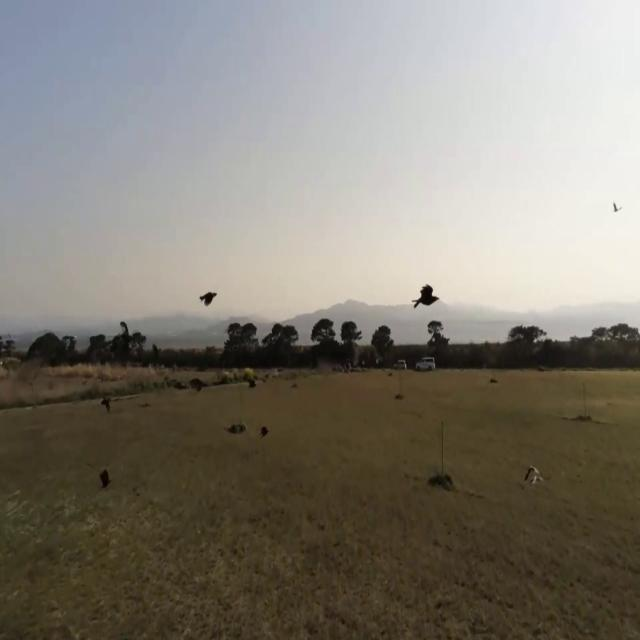bird: (413, 271, 438, 316), (199, 280, 217, 311), (522, 456, 536, 490), (612, 196, 622, 219)
